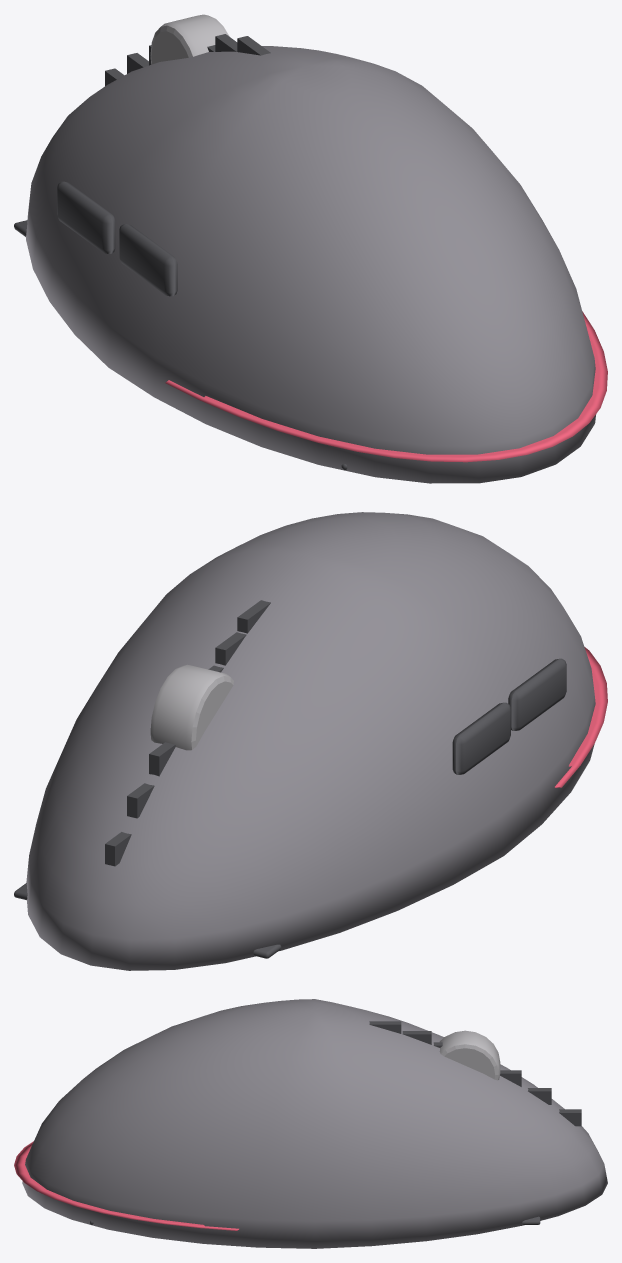
File: mouse.glb
The picture shows the model from 3 angles, top to bottom: view 1: azimuth 30°, elevation 25°; view 2: azimuth 150°, elevation 25°; view 3: azimuth 270°, elevation 25°; orthographic projection. The views are drawn at different scales.
Visible parts, largest first — view 1: mouse; view 2: mouse; view 3: mouse.
Part boxes in pixels (left/top/right/bottom): mouse: left=14, top=14, right=607, bottom=483; mouse: left=14, top=512, right=607, bottom=970; mouse: left=14, top=999, right=607, bottom=1248.
Bounding box in the file's own units: 0.0631 × 0.038 × 0.1186.
